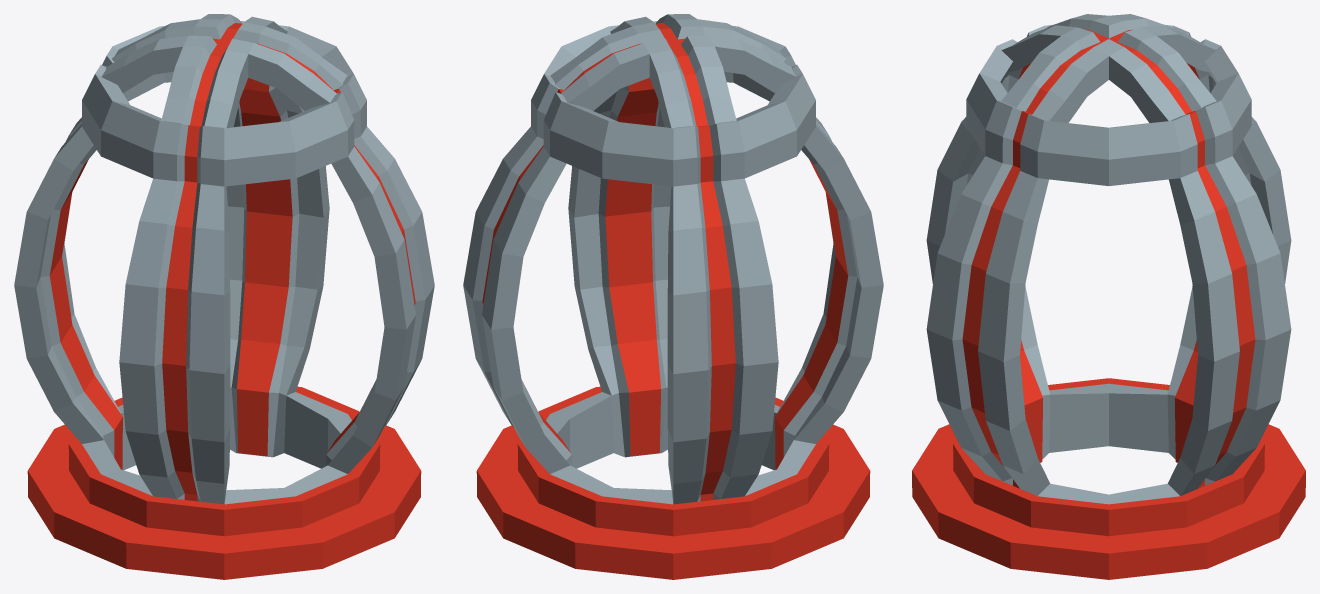
File: spawn.glb
The picture shows the model from 3 angles, left to right: view 1: azimuth 30°, elevation 25°; view 2: azimuth 150°, elevation 25°; view 3: azimuth 270°, elevation 25°; orthographic projection.
Parts seen in each view (by area): view 1: Circle, Circle.001, Circle.002; view 2: Circle, Circle.001, Circle.002; view 3: Circle, Circle.001, Circle.002.
Boxes of the visible parts, x1,y1,x2,y2 form: Circle: [14, 21, 434, 504]; Circle.001: [27, 386, 421, 579]; Circle.002: [101, 14, 347, 128]; Circle: [463, 21, 883, 504]; Circle.001: [476, 386, 870, 579]; Circle.002: [550, 14, 796, 128]; Circle: [926, 24, 1291, 504]; Circle.001: [912, 378, 1305, 579]; Circle.002: [1001, 14, 1216, 122].
Size of the model in its own units: 1.37 by 1.81 by 1.37.
